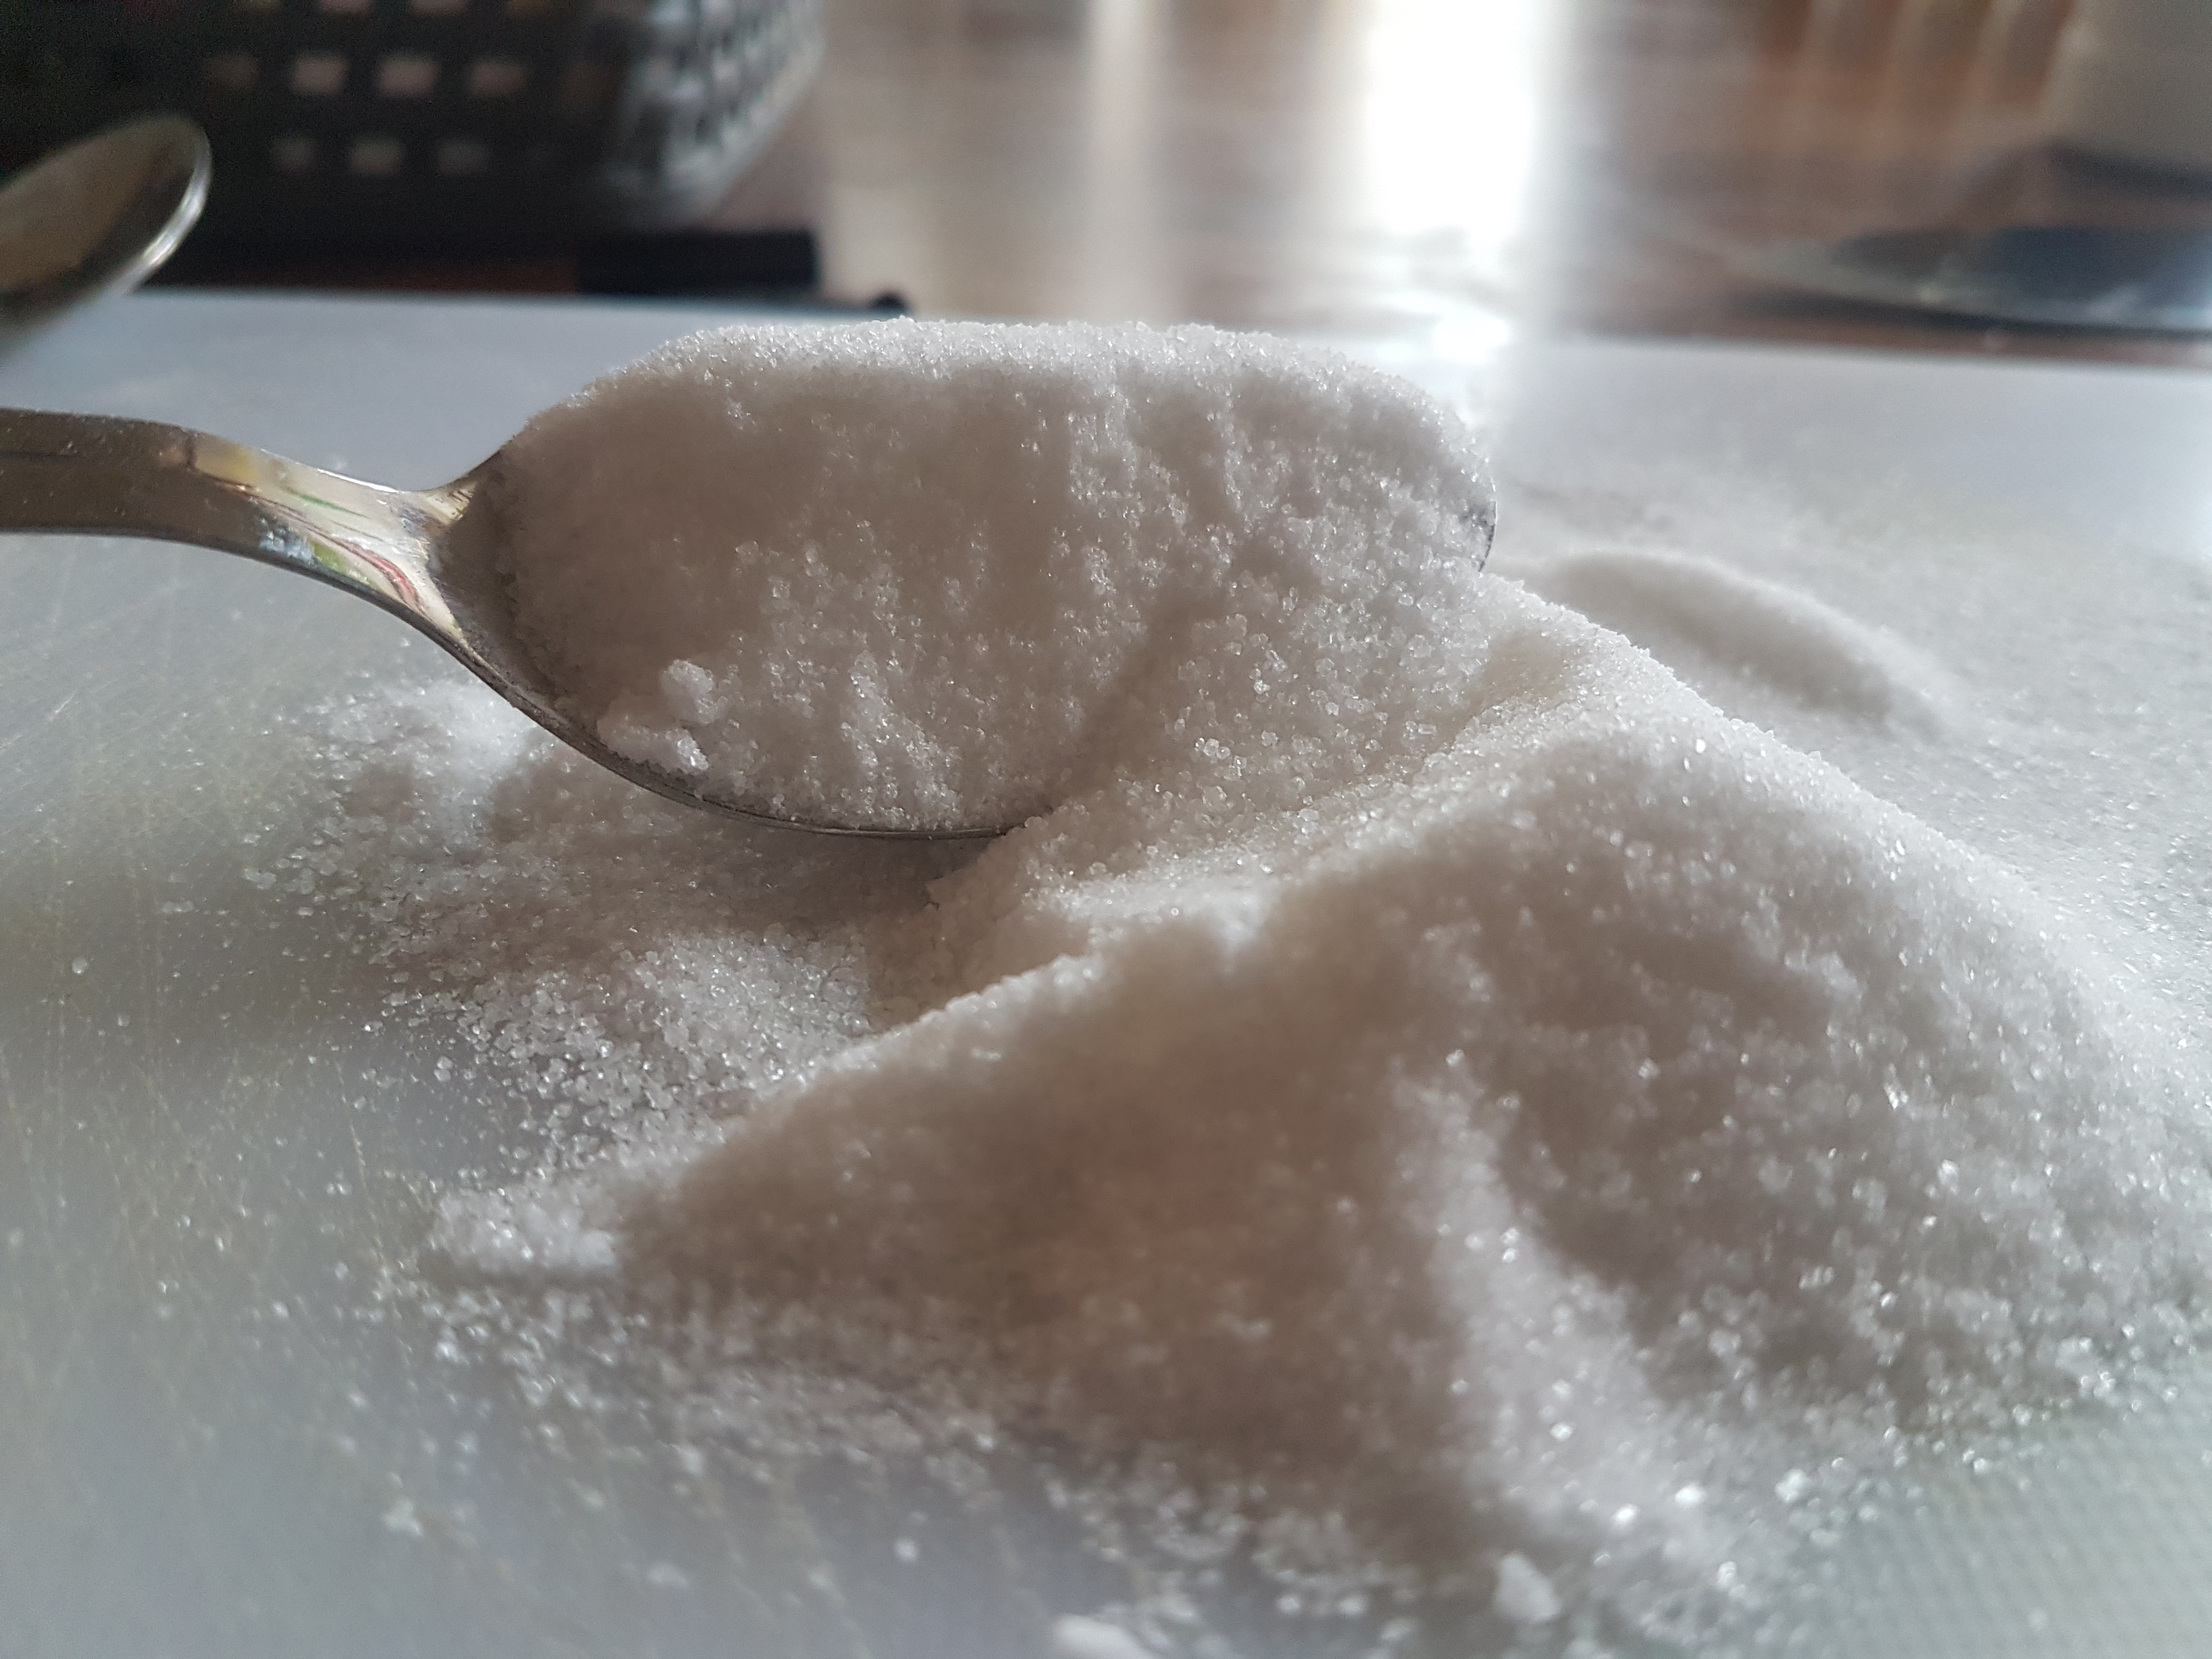Sugar: (496, 335, 2155, 1659)
